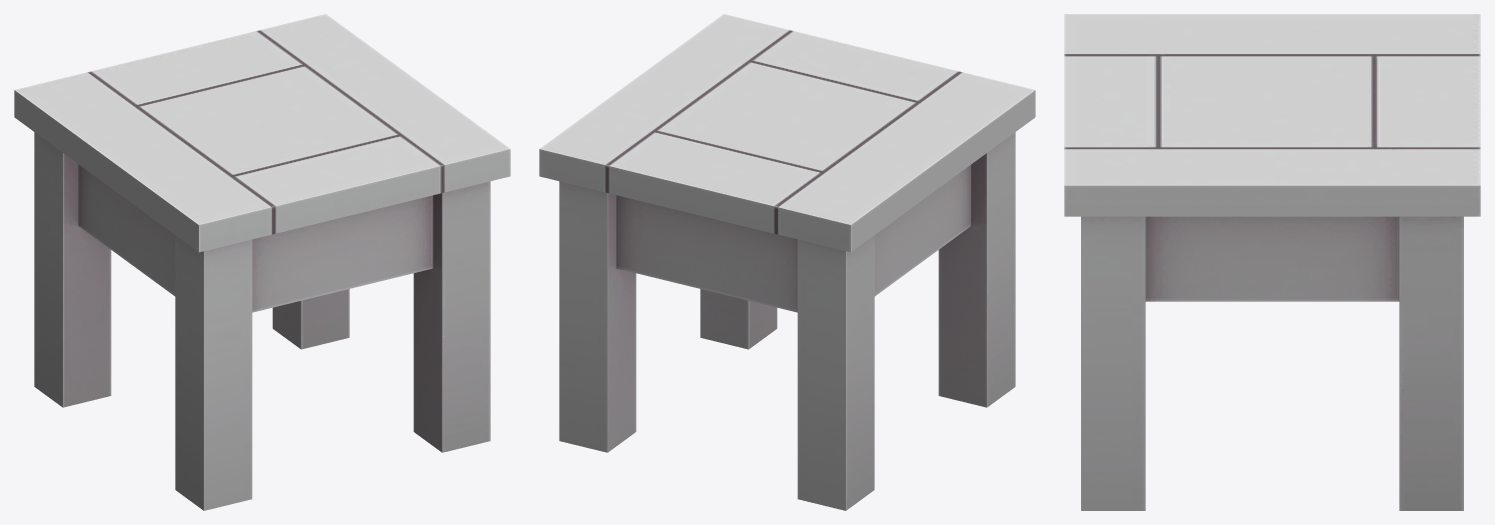
Rendered from my_defaultroom_chair_02.glb.
3 views of the same model, side by side, from view 1: azimuth 30°, elevation 25°; view 2: azimuth 150°, elevation 25°; view 3: azimuth 270°, elevation 25° (orthographic). The views are drawn at different scales.
Visible parts, largest first — view 1: my_defaultroom_chair_02; view 2: my_defaultroom_chair_02; view 3: my_defaultroom_chair_02.
Part boxes in pixels (x1,y1,x2,y2): my_defaultroom_chair_02: (14, 14, 510, 510); my_defaultroom_chair_02: (539, 14, 1035, 510); my_defaultroom_chair_02: (1064, 14, 1480, 510).
Bounding box in the file's own units: 0.00303 × 0.00273 × 0.0031.
Materials: 1 (1 with a texture image).
